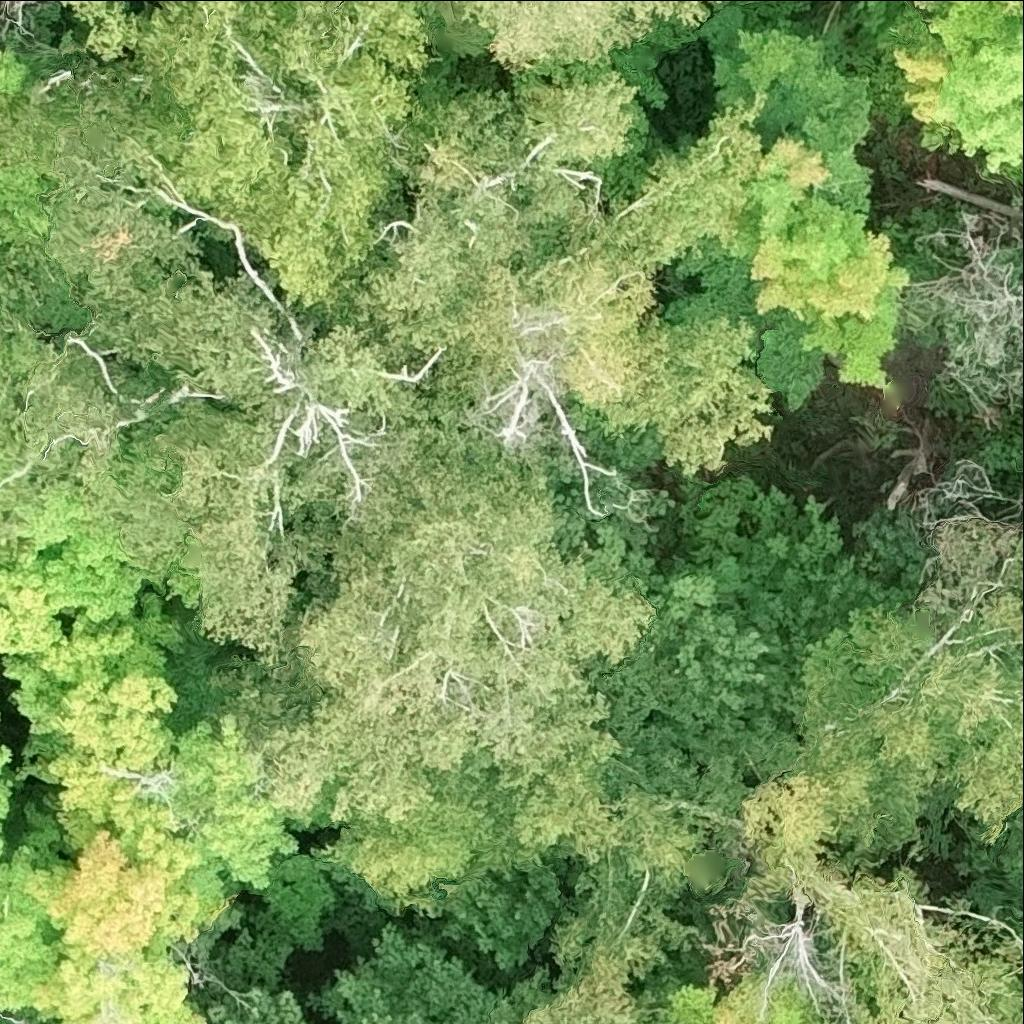crown: (245, 461, 656, 890), (548, 400, 806, 816), (670, 21, 908, 404), (327, 74, 633, 371), (80, 267, 434, 518), (774, 519, 1023, 864), (737, 771, 1023, 1023), (50, 670, 298, 933), (0, 495, 201, 783), (257, 0, 433, 326), (680, 477, 936, 687), (120, 0, 317, 242), (156, 403, 331, 666), (0, 833, 207, 1023), (556, 310, 781, 477), (469, 237, 651, 439), (549, 793, 728, 991), (838, 0, 1023, 187), (596, 90, 768, 271), (440, 0, 731, 76), (231, 851, 379, 988), (21, 324, 134, 485), (327, 922, 496, 1023), (418, 860, 564, 973), (746, 885, 846, 1011), (485, 964, 679, 1023), (669, 962, 820, 1023), (58, 0, 131, 60), (201, 989, 305, 1023), (0, 49, 29, 98), (0, 743, 12, 852), (0, 0, 43, 24), (1009, 540, 1023, 591), (911, 0, 946, 15), (757, 0, 812, 9), (1009, 0, 1023, 12), (0, 855, 5, 866)
